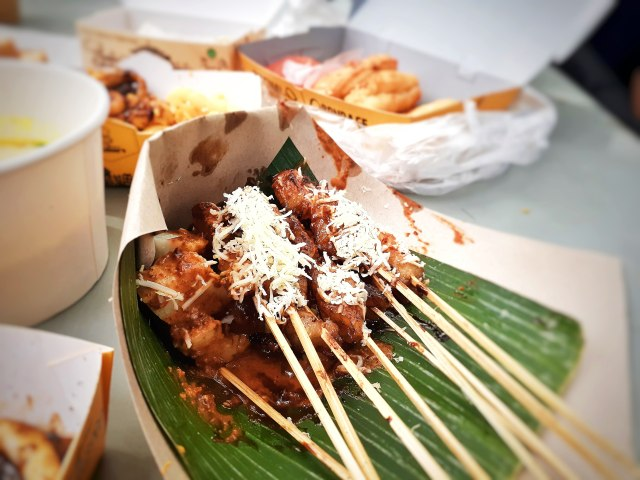sate: (132, 157, 487, 433)
